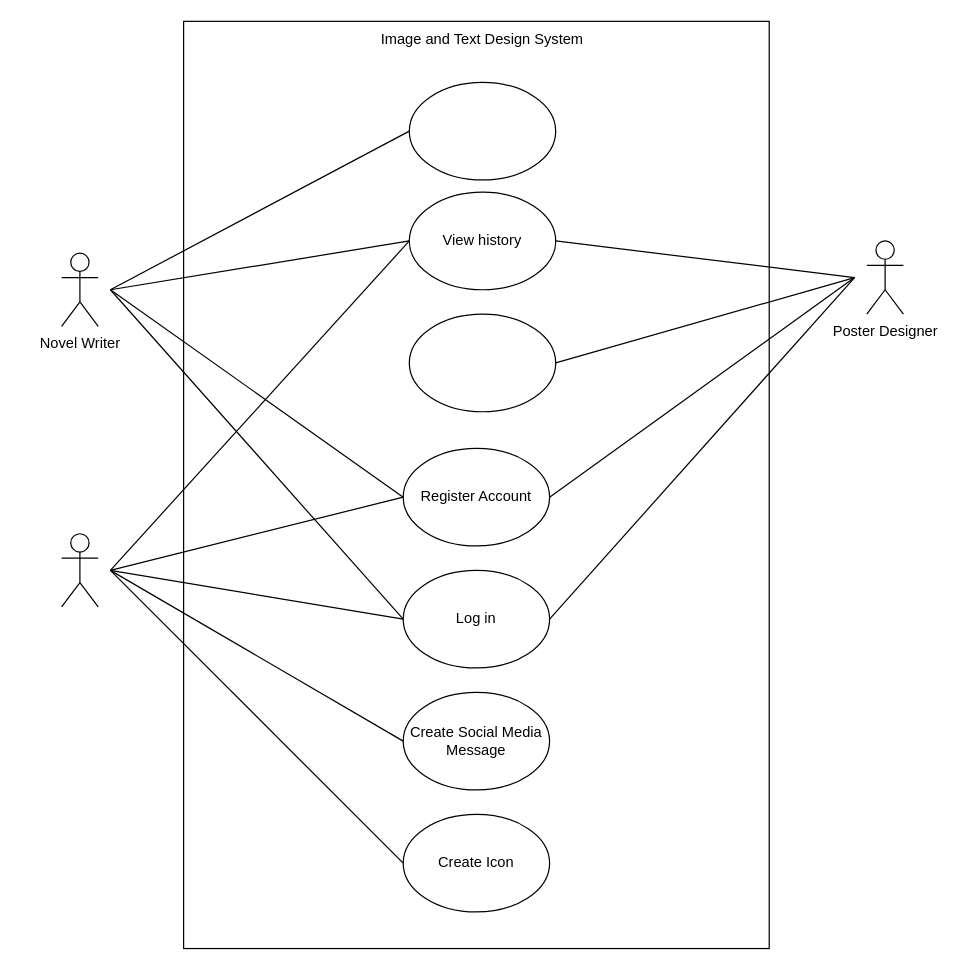
Image size: 959x970. Some labels were removed from this diagram. Here are the shapes that lost their labels. From the top down, the box of each, then its label:
(408, 81, 556, 180): Create illustration
(408, 313, 556, 412): Create Poster
(60, 533, 98, 607): Social Media User
